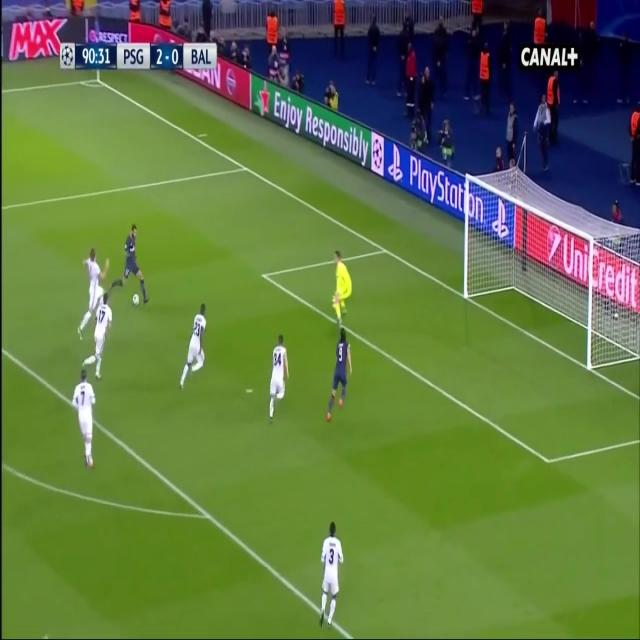Ball: (131, 290, 142, 310)
Goalkeeper: (328, 246, 352, 326)
Player: (76, 243, 114, 337), (109, 222, 150, 303), (317, 518, 346, 630), (323, 326, 353, 429), (79, 294, 114, 382), (179, 300, 209, 396), (70, 369, 98, 471), (266, 330, 290, 422)
